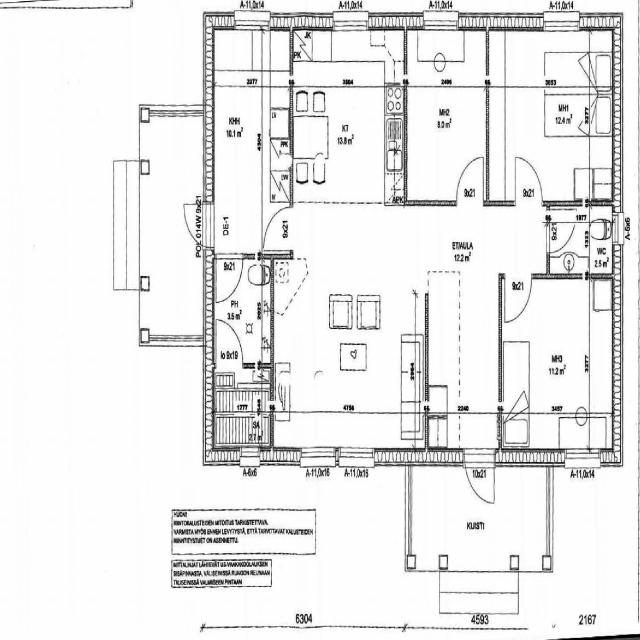door: (464, 448, 494, 514), (176, 203, 214, 247), (504, 273, 532, 322), (515, 156, 542, 205), (546, 208, 576, 252), (216, 254, 243, 302), (457, 156, 483, 205), (216, 319, 242, 367), (264, 207, 293, 250)
